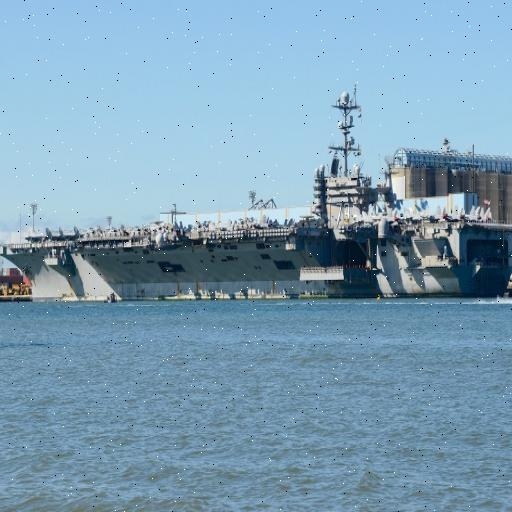Portanaves: (1, 76, 512, 301)
